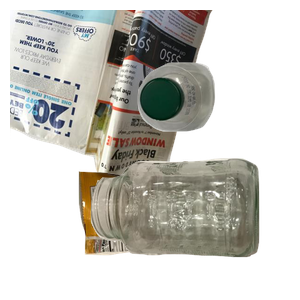glass: (88, 156, 300, 300)
paper: (10, 10, 215, 186)
plastic: (135, 60, 300, 184)
trash: (76, 159, 259, 300)
